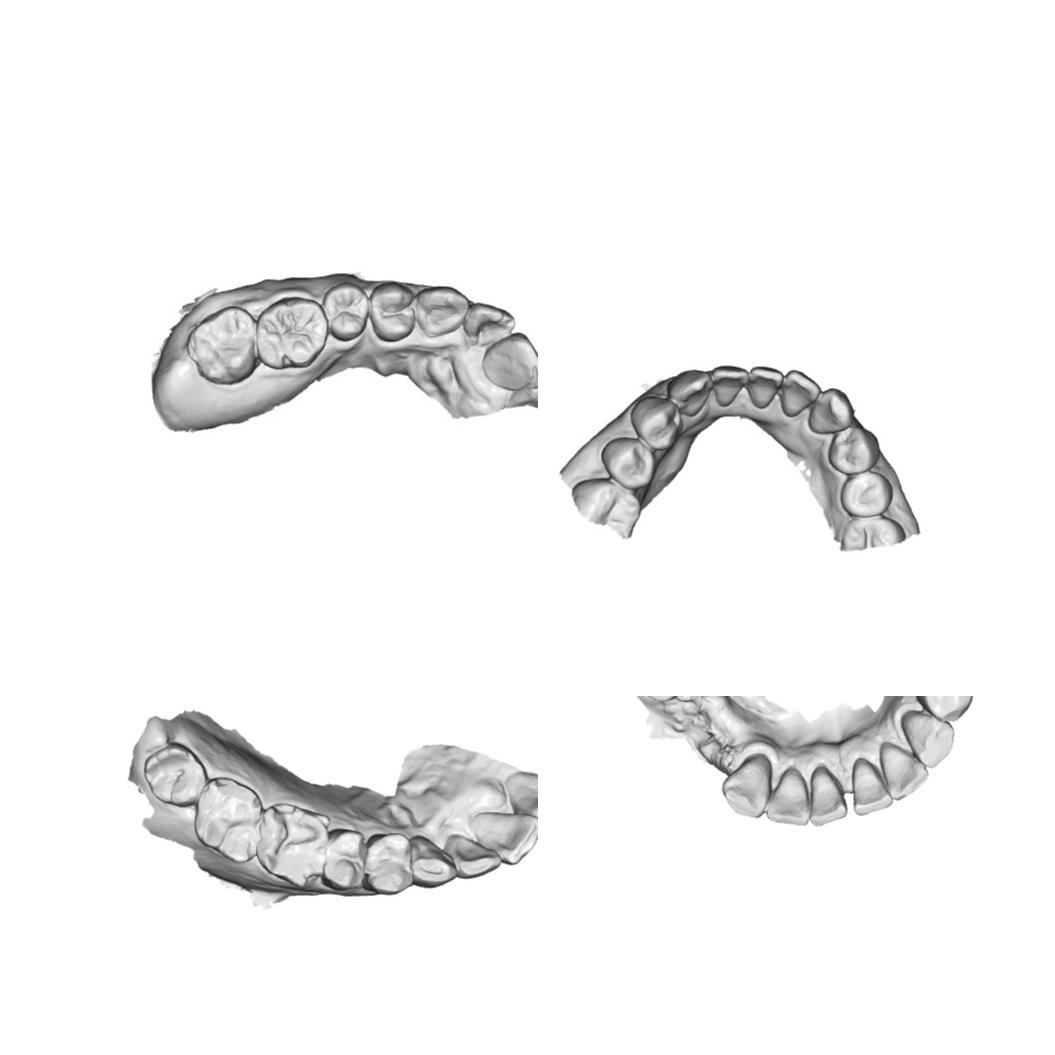canine: (720, 752, 773, 819), (900, 710, 955, 769), (408, 831, 460, 892), (414, 287, 463, 337), (807, 386, 855, 436), (668, 368, 713, 419)
incisor: (467, 810, 538, 866), (475, 334, 538, 391), (878, 740, 929, 802), (463, 296, 517, 352), (447, 827, 501, 882), (764, 768, 810, 826), (850, 757, 894, 817), (808, 765, 848, 827), (780, 369, 821, 419), (503, 765, 538, 822), (744, 362, 782, 412), (711, 364, 749, 408)
molar: (191, 774, 265, 864), (255, 801, 330, 888), (185, 302, 260, 387), (258, 295, 329, 368), (142, 741, 211, 809)
premolar: (361, 830, 413, 897), (320, 279, 370, 342), (600, 435, 656, 490), (628, 394, 680, 451), (826, 425, 882, 476), (324, 827, 368, 891), (371, 281, 415, 340), (840, 471, 892, 519), (914, 696, 974, 723)
